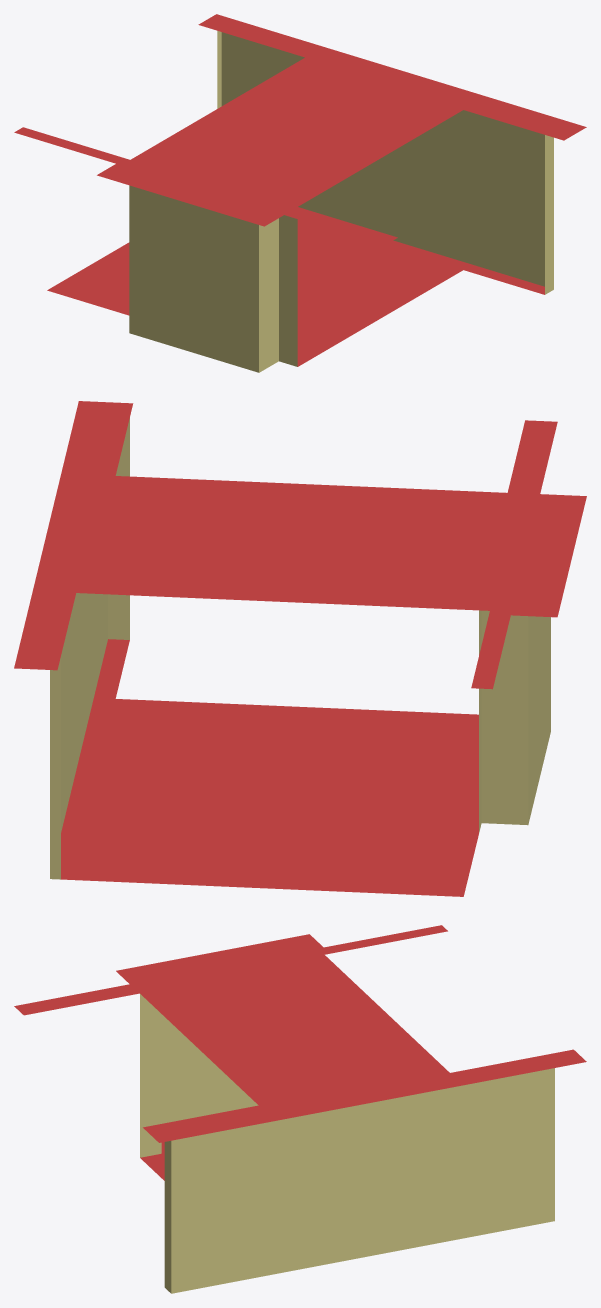
3 views of the same model, one above another, from view 1: azimuth 30°, elevation 25°; view 2: azimuth 150°, elevation 25°; view 3: azimuth 270°, elevation 25° (orthographic). The views are drawn at different scales.
Bounding box in the file's own units: 16.02 × 17.8 × 5.63.
